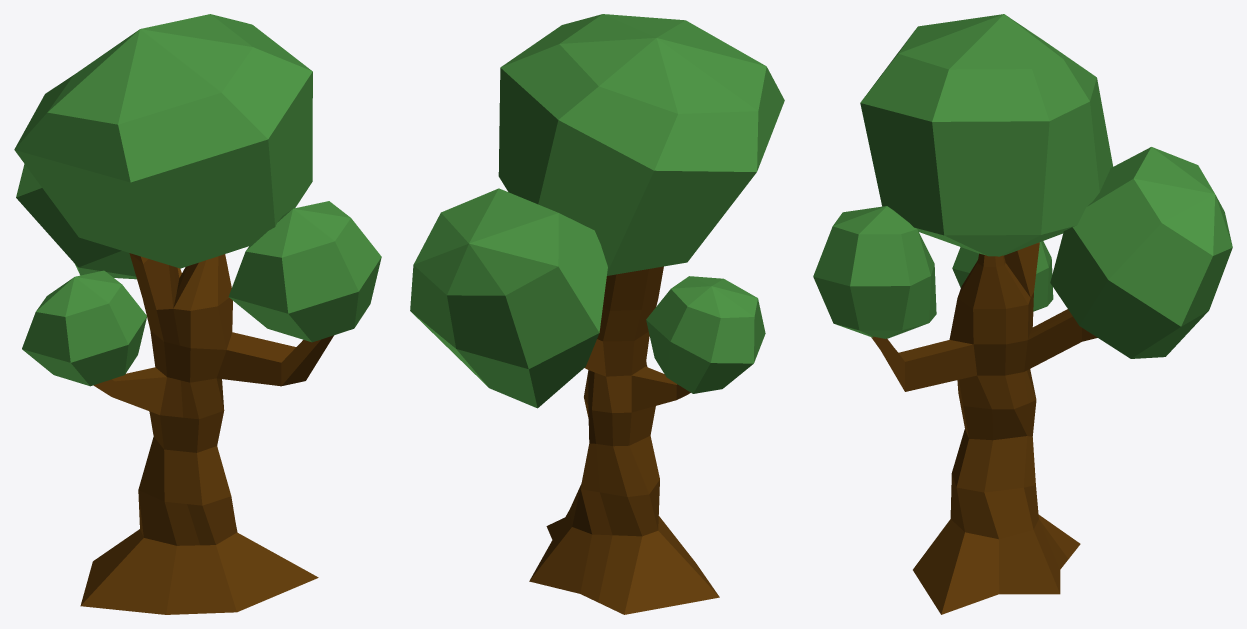
Rendered from Tree01.fbx.
The picture shows the model from 3 angles, left to right: view 1: azimuth 30°, elevation 25°; view 2: azimuth 150°, elevation 25°; view 3: azimuth 270°, elevation 25°; orthographic projection. The views are drawn at different scales.
Visible parts, largest first — view 1: Sphere, Cube; view 2: Sphere, Cube; view 3: Sphere, Cube.
Part boxes in pixels (x1,y1,x2,y2): Sphere: (14,14,381,386); Cube: (80,253,333,614); Sphere: (410,14,784,408); Cube: (529,266,719,614); Sphere: (813,14,1232,358); Cube: (871,242,1097,614).
Bounding box in the file's own units: 76.78 × 149 × 106.
